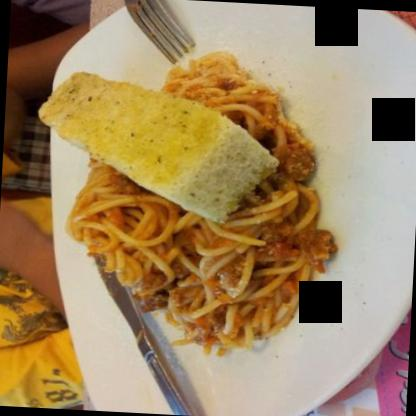pasta: (68, 62, 334, 345)
